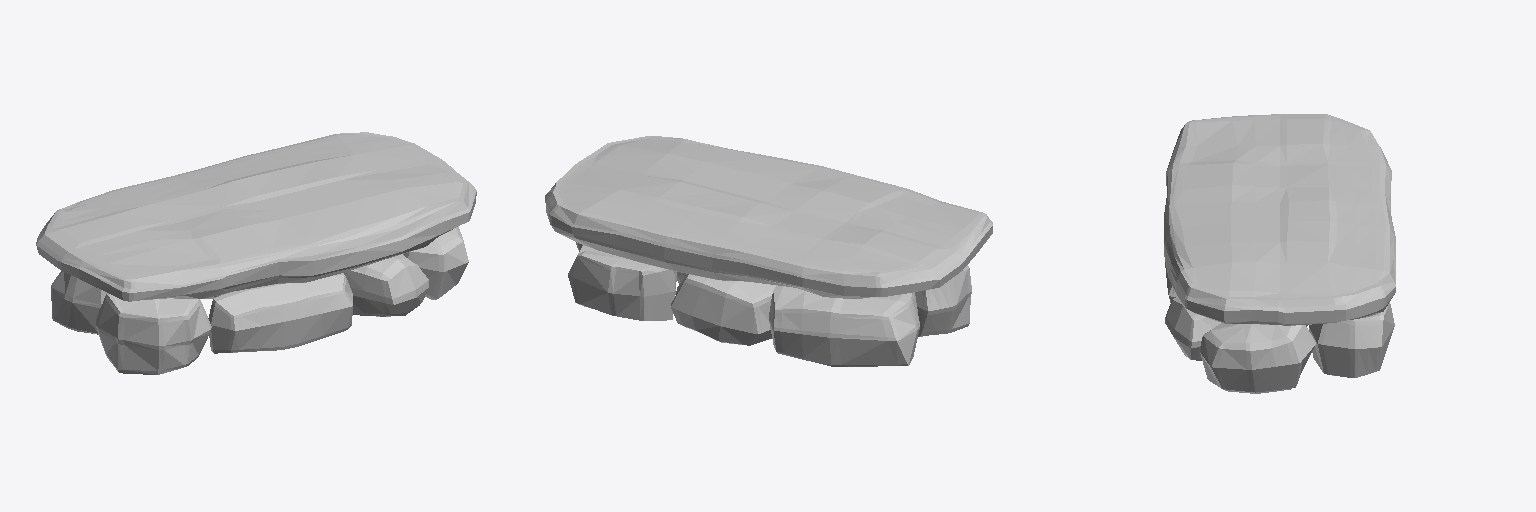
File: stonealtar.obj
The picture shows the model from 3 angles: view 1: azimuth 30°, elevation 25°; view 2: azimuth 150°, elevation 25°; view 3: azimuth 270°, elevation 25°; orthographic projection.
Visible parts, largest first — view 1: polySurface33.001; view 2: polySurface33.001; view 3: polySurface33.001.
Part boxes in pixels (x1,y1,x2,y2): polySurface33.001: (36,132,476,374); polySurface33.001: (545,136,992,366); polySurface33.001: (1164,114,1395,393).
Size of the model in its own units: 2.95 by 0.814 by 1.52.